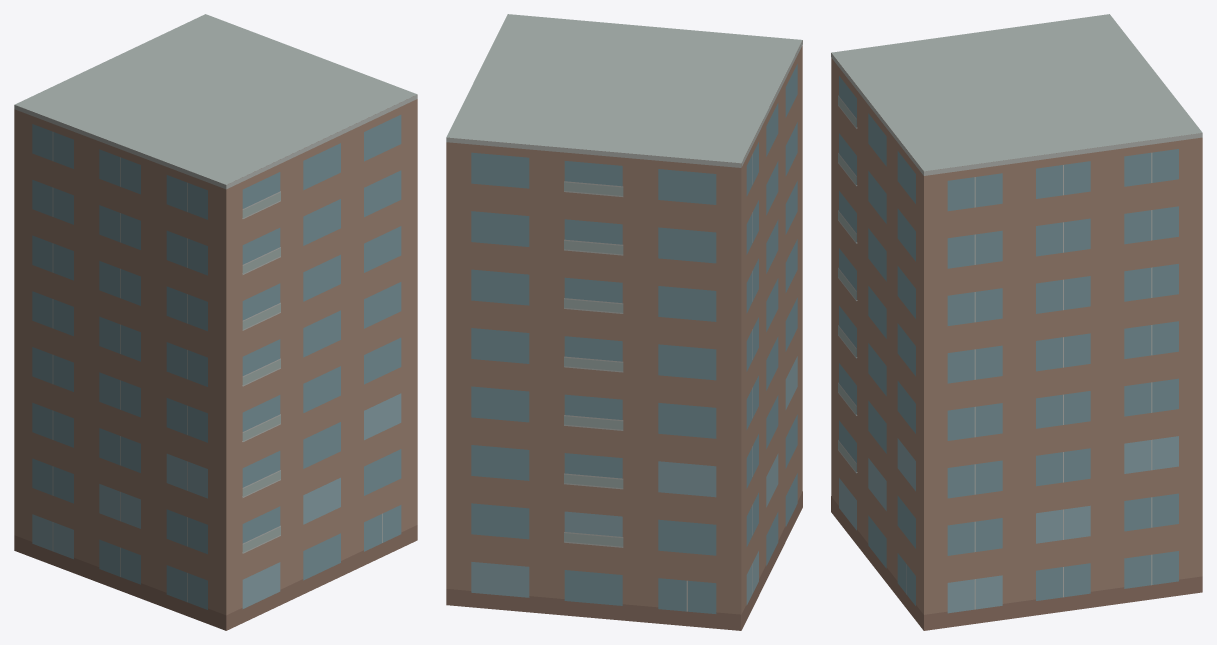
Rendered from survey-upis-32568868.glb.
3 views of the same model, side by side, from view 1: azimuth 30°, elevation 25°; view 2: azimuth 150°, elevation 25°; view 3: azimuth 270°, elevation 25° (orthographic). The views are drawn at different scales.
Visible parts, largest first — view 1: survey-upis-32568868.tmp; view 2: survey-upis-32568868.tmp; view 3: survey-upis-32568868.tmp.
Boxes of the visible parts, bbox=[...] form: survey-upis-32568868.tmp: bbox=[14, 14, 417, 630]; survey-upis-32568868.tmp: bbox=[446, 14, 802, 630]; survey-upis-32568868.tmp: bbox=[831, 14, 1202, 630].
Bounding box in the file's own units: 17.79 × 24.2 × 17.75.
